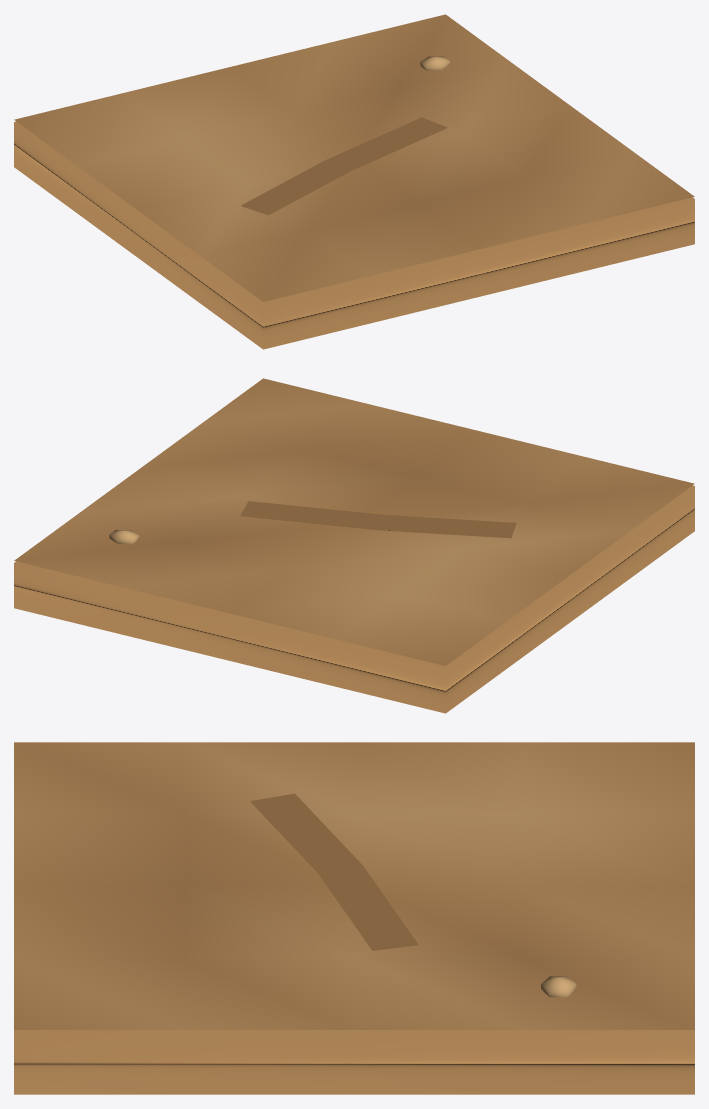
File: floor_dirt.glb
3 views of the same model, one above another, from view 1: azimuth 30°, elevation 25°; view 2: azimuth 150°, elevation 25°; view 3: azimuth 270°, elevation 25° (orthographic). The views are drawn at different scales.
Parts seen in each view (by area): view 1: Tile.001; view 2: Tile.001; view 3: Tile.001.
Boxes of the visible parts, <box> form: Tile.001: <box>14,14,694,349</box>; Tile.001: <box>14,378,694,713</box>; Tile.001: <box>14,742,694,1094</box>.
Size of the model in its own units: 1 by 0.123 by 1.
